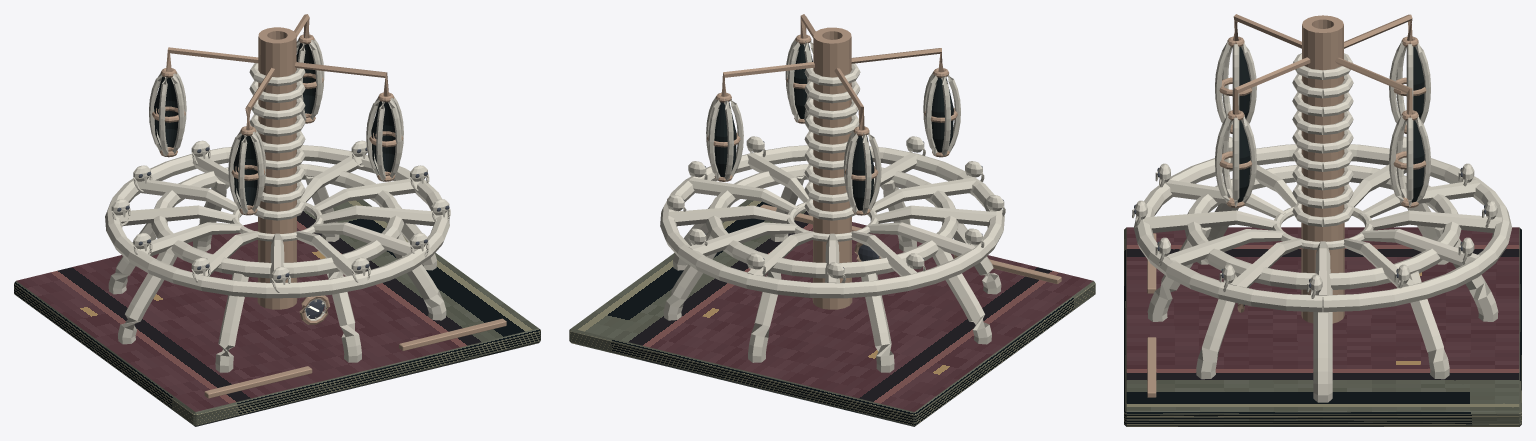
Rendered from ossuary_bone_mandala.glb.
The picture shows the model from 3 angles, left to right: view 1: azimuth 30°, elevation 25°; view 2: azimuth 150°, elevation 25°; view 3: azimuth 270°, elevation 25°; orthographic projection. The views are drawn at different scales.
Visible parts, largest first — view 1: ossuary_bone_mandala_petrol, ossuary_bone_mandala_warm, ossuary_bone_mandala_worn, ossuary_bone_mandala_deep; view 2: ossuary_bone_mandala_petrol, ossuary_bone_mandala_warm, ossuary_bone_mandala_worn; view 3: ossuary_bone_mandala_petrol, ossuary_bone_mandala_warm, ossuary_bone_mandala_worn.
Boxes of the visible parts, x1,y1,x2,y2 form: ossuary_bone_mandala_petrol: (14, 43, 540, 426); ossuary_bone_mandala_warm: (105, 38, 450, 372); ossuary_bone_mandala_worn: (152, 14, 506, 398); ossuary_bone_mandala_deep: (117, 147, 449, 318); ossuary_bone_mandala_petrol: (569, 44, 1095, 426); ossuary_bone_mandala_warm: (660, 38, 1005, 372); ossuary_bone_mandala_worn: (706, 14, 1061, 309); ossuary_bone_mandala_petrol: (1124, 46, 1521, 426); ossuary_bone_mandala_warm: (1132, 41, 1511, 402); ossuary_bone_mandala_worn: (1147, 14, 1426, 397).
Size of the model in its own units: 5.85 by 4.57 by 5.3.
Materials: 5 (1 with a texture image).
